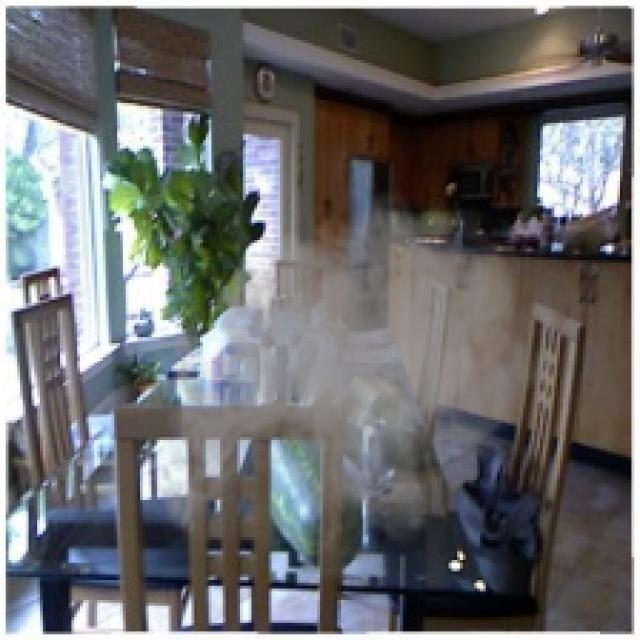Smoke: (146, 177, 554, 603)
